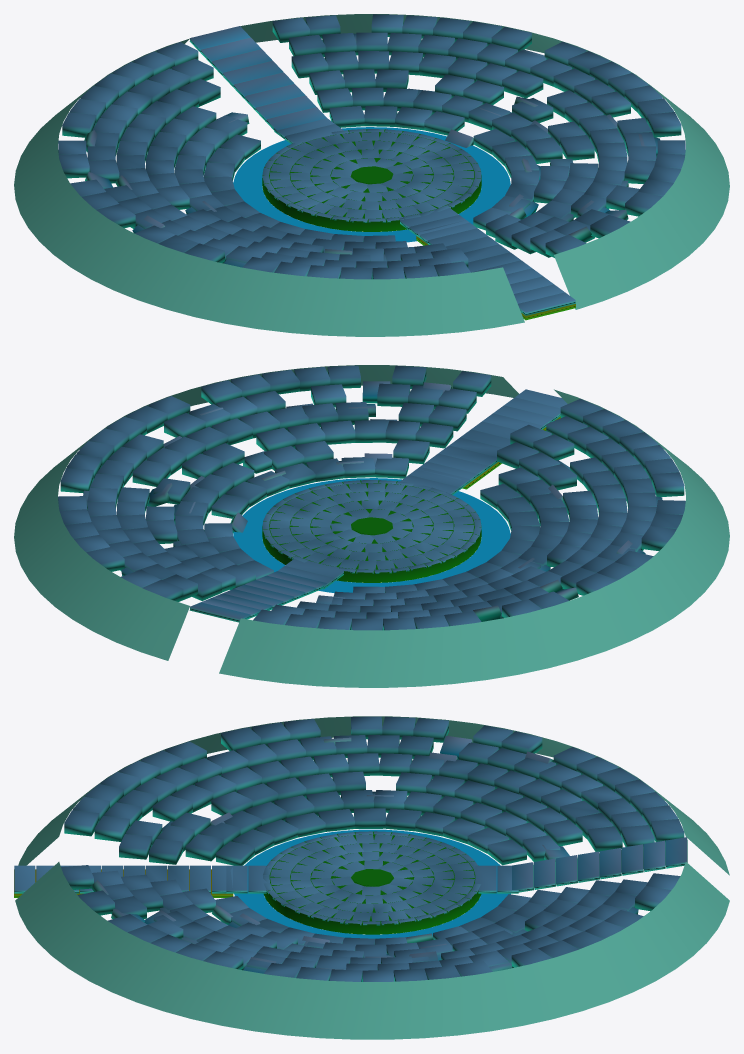
The model's file is choir_amphitheatre_walked.glb.
3 renders of one model, top to bottom at view 1: azimuth 30°, elevation 25°; view 2: azimuth 150°, elevation 25°; view 3: azimuth 270°, elevation 25°, orthographic.
Visible parts, largest first — view 1: choir_amphitheatre_walked; view 2: choir_amphitheatre_walked; view 3: choir_amphitheatre_walked.
Boxes of the visible parts, x1,y1,x2,y2 form: choir_amphitheatre_walked: (14, 14, 729, 336); choir_amphitheatre_walked: (14, 365, 729, 687); choir_amphitheatre_walked: (14, 716, 729, 1039).
Size of what is drawn, in the model's own units: 48.94 by 3.76 by 48.91.
